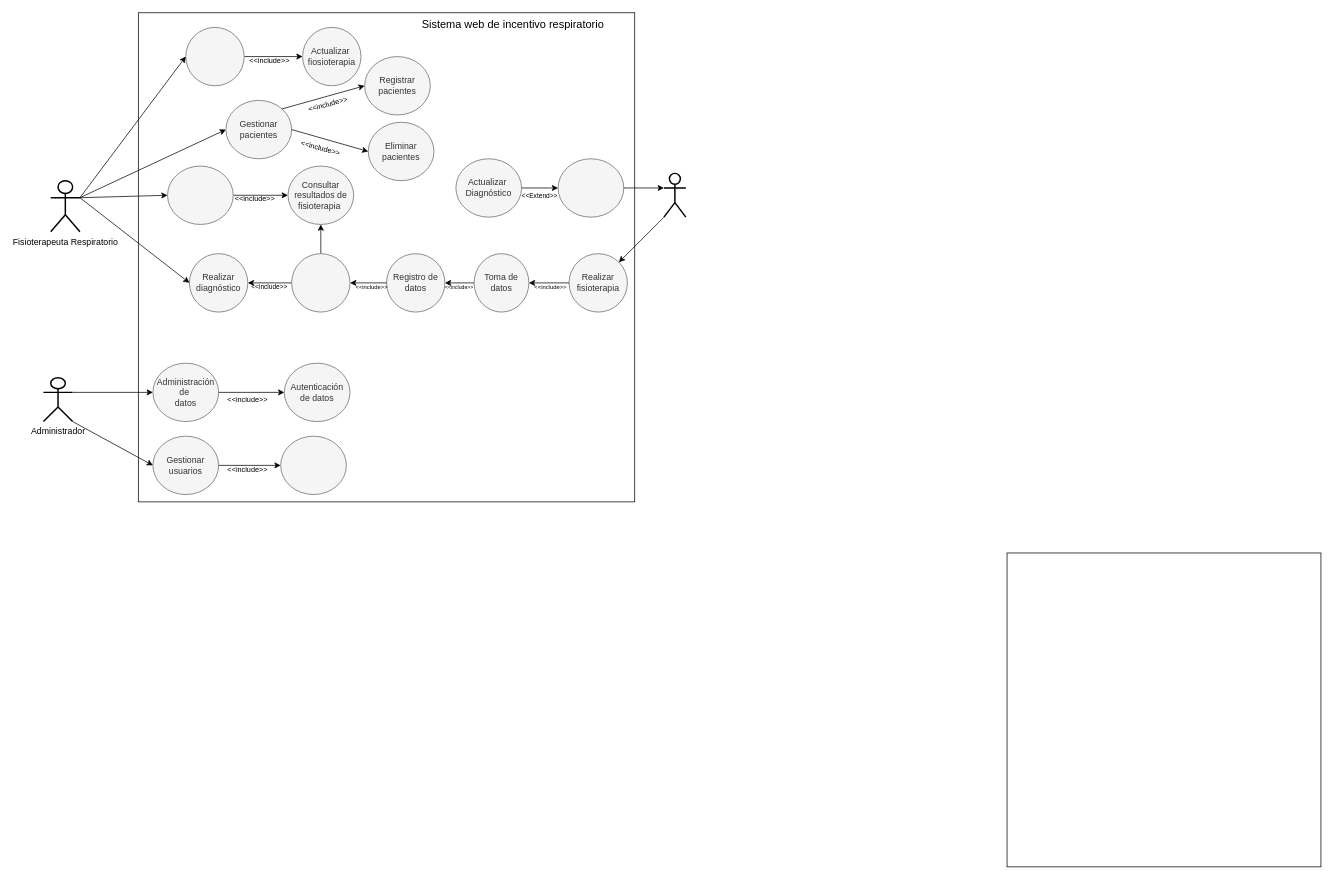
This 1334x880 diagram has some shape labels left out. The box of each missing label's shape, as (x1, y1, x2, y2) in pixels:
Autenticación de pacientes: (280, 435, 346, 495)
Consultar estado de pacientes: (167, 165, 233, 224)
Diseño Conceptual: (1006, 552, 1321, 867)
Paciente: (663, 172, 686, 218)
Prescribir fiosioterapia: (185, 27, 244, 86)
Recibir realimentación: (557, 158, 624, 217)
Transmisión de datos: (291, 253, 350, 312)
